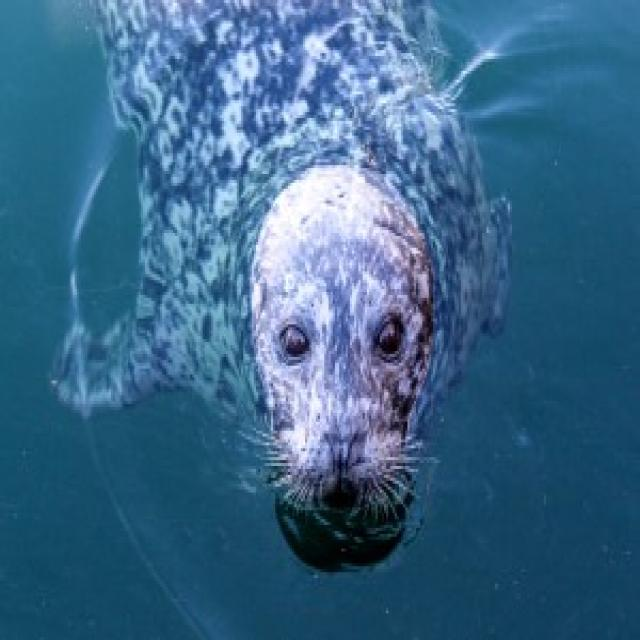Seal: (62, 0, 528, 556)
